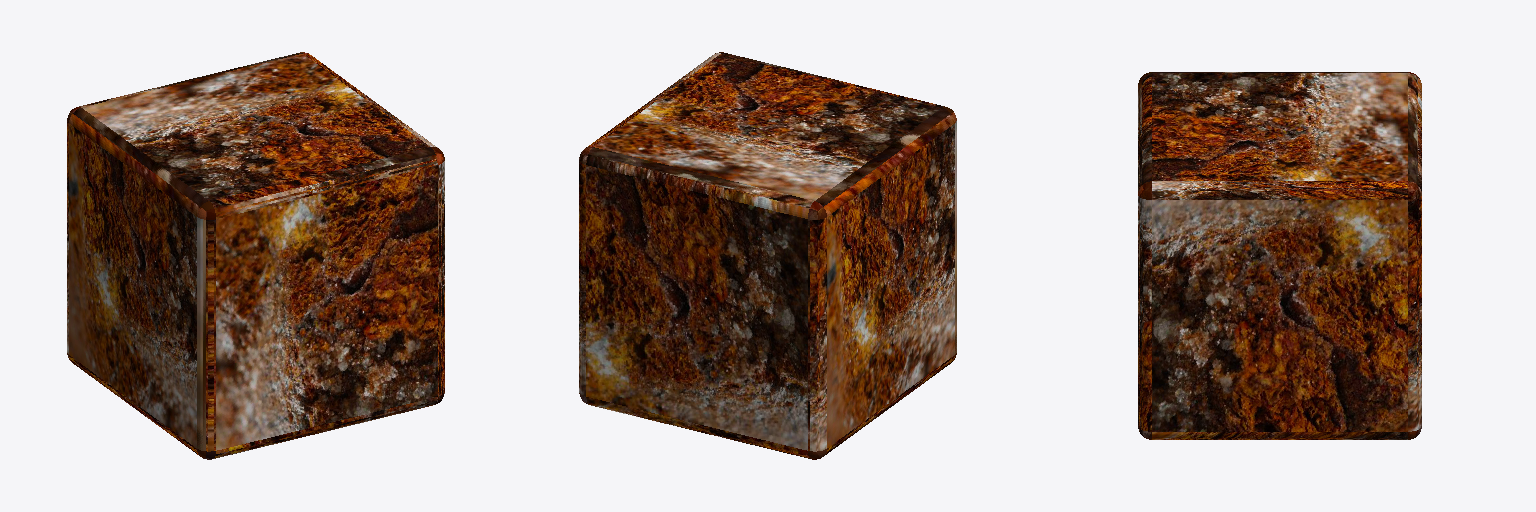
3 renders of one model, left to right at view 1: azimuth 30°, elevation 25°; view 2: azimuth 150°, elevation 25°; view 3: azimuth 270°, elevation 25°, orthographic.
Visible parts, largest first — view 1: Cube; view 2: Cube; view 3: Cube.
Boxes of the visible parts, box(x1,y1,x2,y2) form: Cube: box(67, 52, 444, 459); Cube: box(579, 52, 956, 459); Cube: box(1138, 72, 1421, 439).
Size of the model in its own units: 2 by 2 by 2.
Materials: 1 (1 with a texture image).